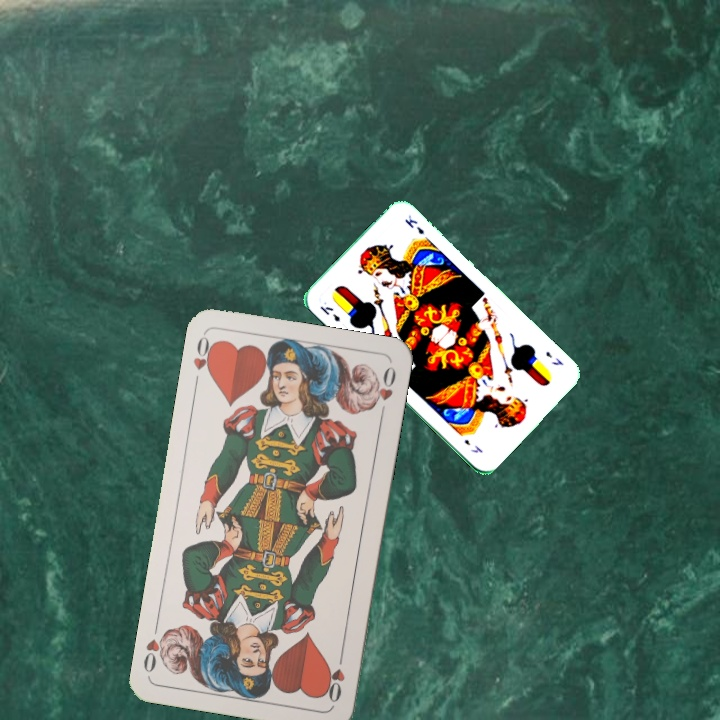EK: (316, 302, 343, 324), (541, 347, 566, 368)
HO: (189, 331, 219, 390), (322, 647, 348, 705)
